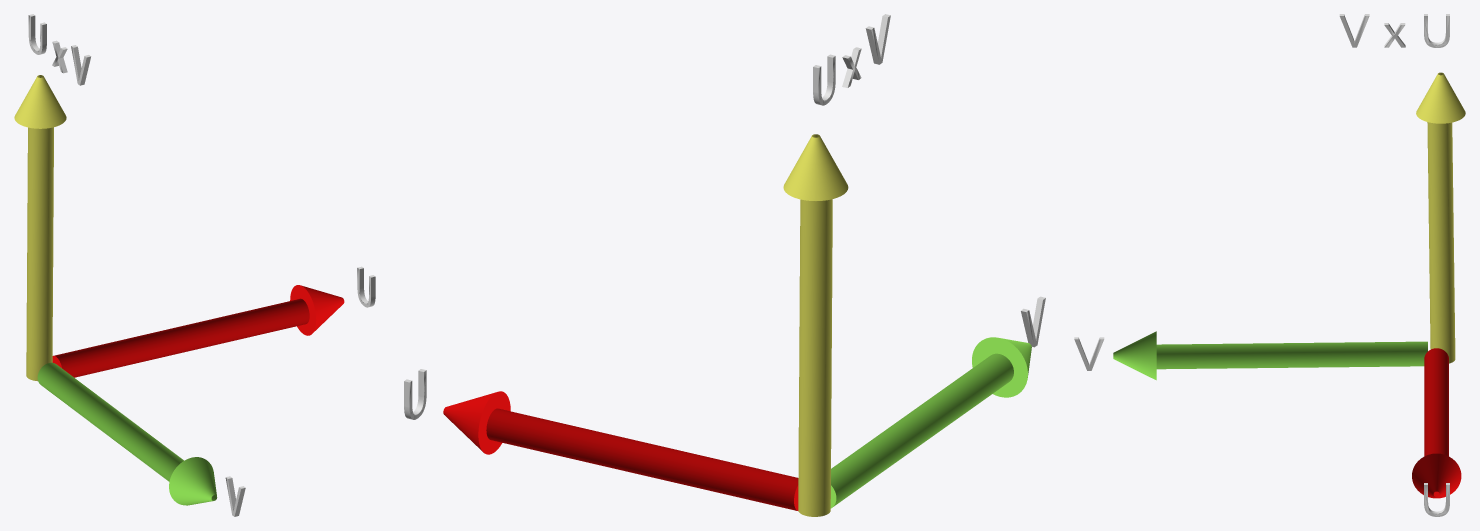
3 views of the same model, side by side, from view 1: azimuth 30°, elevation 25°; view 2: azimuth 150°, elevation 25°; view 3: azimuth 270°, elevation 25° (orthographic). The views are drawn at different scales.
Parts seen in each view (by area): view 1: Cylinder.053, Cylinder.051, Cylinder.052, Cone.041, Cone.040, Cone.042; view 2: Cylinder.053, Cylinder.051, Cylinder.052, Cone.040, Cone.042, Cone.041; view 3: Cylinder.052, Cylinder.051, Cylinder.053, Cone.042, Cone.040, Cone.041.
Part boxes in pixels (box(x1,y1,x2,y2)): Cylinder.053: box(52, 298, 309, 377); Cylinder.051: box(26, 127, 53, 381); Cylinder.052: box(37, 362, 183, 481); Cone.041: box(169, 457, 217, 505); Cone.040: box(14, 75, 66, 128); Cone.042: box(290, 285, 344, 335); Cylinder.053: box(486, 408, 798, 510); Cylinder.051: box(798, 199, 832, 516); Cylinder.052: box(830, 353, 1013, 508); Cone.040: box(783, 134, 848, 200); Cone.042: box(443, 391, 510, 454); Cone.041: box(972, 337, 1031, 397); Cylinder.052: box(1156, 341, 1427, 369); Cylinder.051: box(1427, 122, 1455, 363); Cylinder.053: box(1424, 348, 1448, 456); Cone.042: box(1412, 453, 1461, 498); Cone.040: box(1416, 72, 1465, 123); Cone.041: box(1113, 331, 1156, 380).
Bounding box in the file's own units: 0.1543 × 0.1603 × 0.1578.
